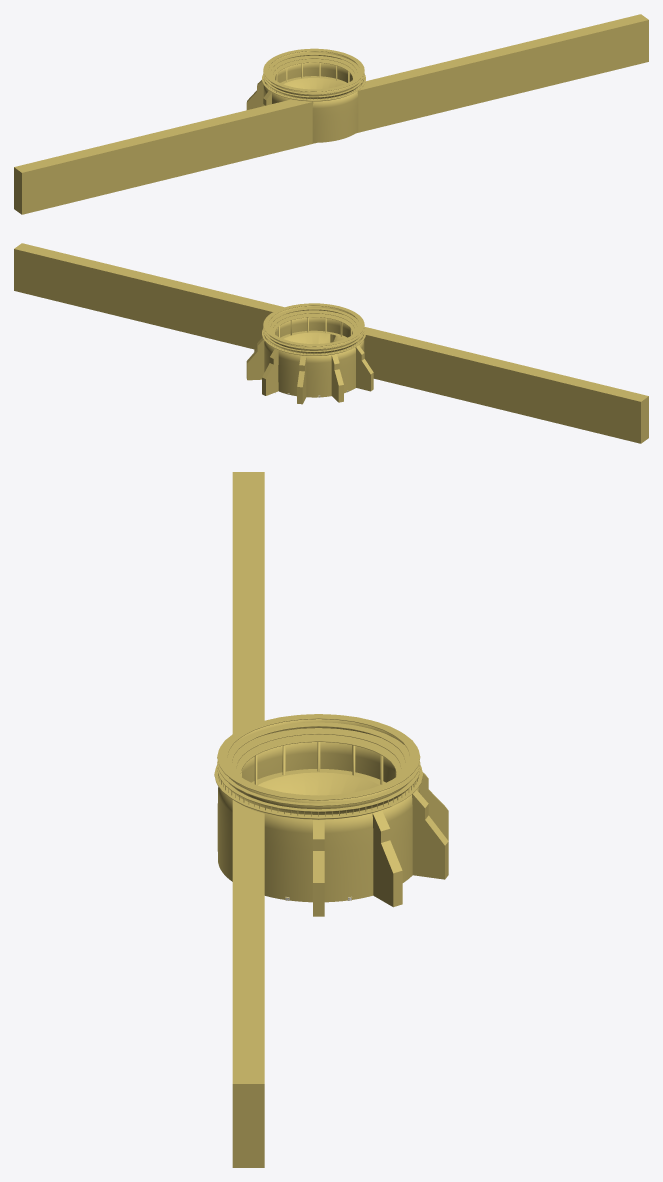
Rendered from PurgatoryArena.fbx.
3 views of the same model, one above another, from view 1: azimuth 30°, elevation 25°; view 2: azimuth 150°, elevation 25°; view 3: azimuth 270°, elevation 25° (orthographic). The views are drawn at different scales.
Parts seen in each view (by area): view 1: Cube.004, OuterArenaWalls, Tribune, Walls; view 2: Cube.004, OuterArenaWalls, Walls, Tribune; view 3: OuterArenaWalls, Cube.004, Walls, Tribune.
Part boxes in pixels (x1,y1,x2,y2): Cube.004: (14, 14, 648, 214); OuterArenaWalls: (262, 48, 365, 142); Tribune: (280, 76, 346, 89); Walls: (246, 80, 272, 109); Cube.004: (14, 243, 648, 443); OuterArenaWalls: (262, 303, 365, 397); Walls: (246, 337, 373, 404); Tribune: (280, 330, 347, 343); OuterArenaWalls: (214, 714, 423, 902); Cube.004: (232, 472, 264, 1167); Walls: (313, 772, 448, 916); Tribune: (251, 769, 385, 795).
Bounding box in the file's own units: 182447 × 14602 × 29518.
